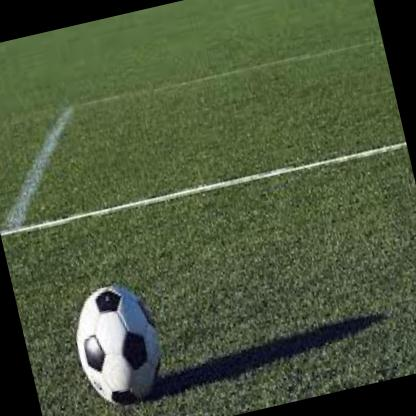ball: (61, 271, 175, 416)
